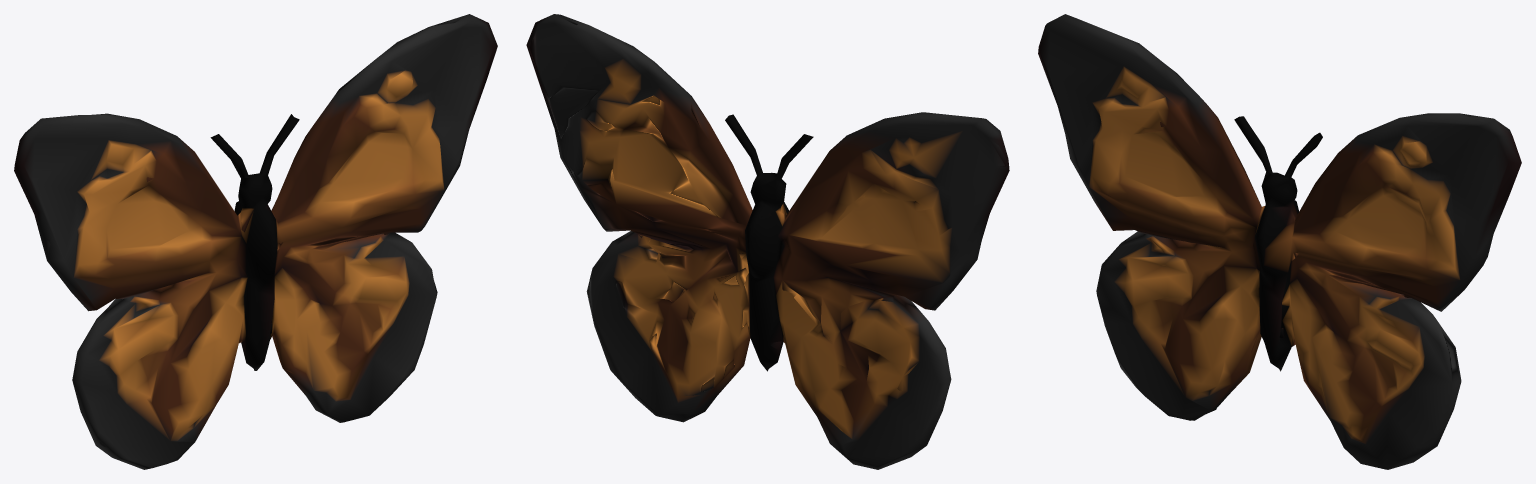
File: gen3d-butterfly-lod0.glb
The picture shows the model from 3 angles, left to right: view 1: azimuth 30°, elevation 25°; view 2: azimuth 150°, elevation 25°; view 3: azimuth 330°, elevation 25°; orthographic projection.
Visible parts, largest first — view 1: part_0; view 2: part_0; view 3: part_0.
Part boxes in pixels (x1,y1,x2,y2): part_0: [14, 14, 497, 469]; part_0: [526, 14, 1009, 469]; part_0: [1038, 14, 1521, 469].
Bounding box in the file's own units: 1.34 × 0.9994 × 0.1822.
